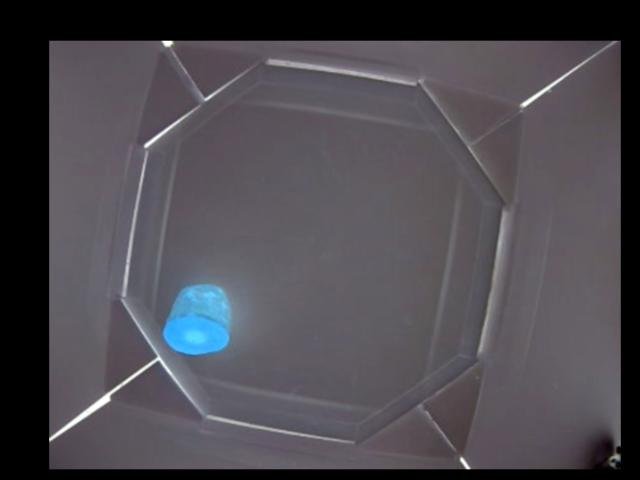Carrot: (161, 283, 232, 355)
